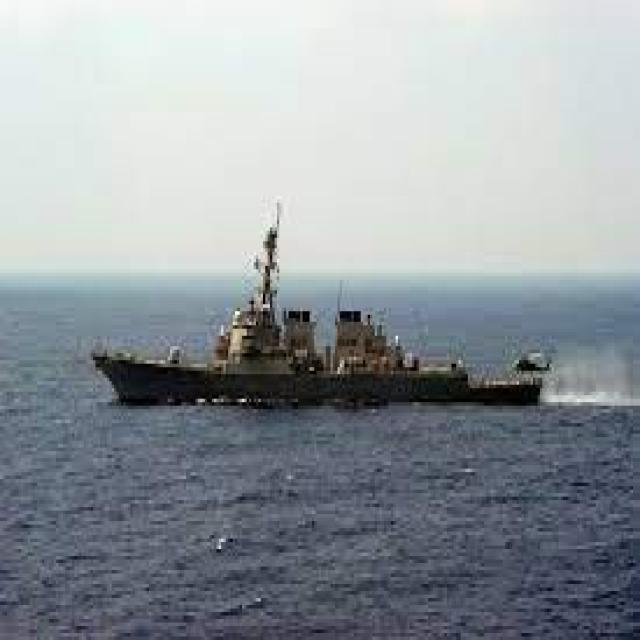navalvessels: (91, 184, 559, 429)
